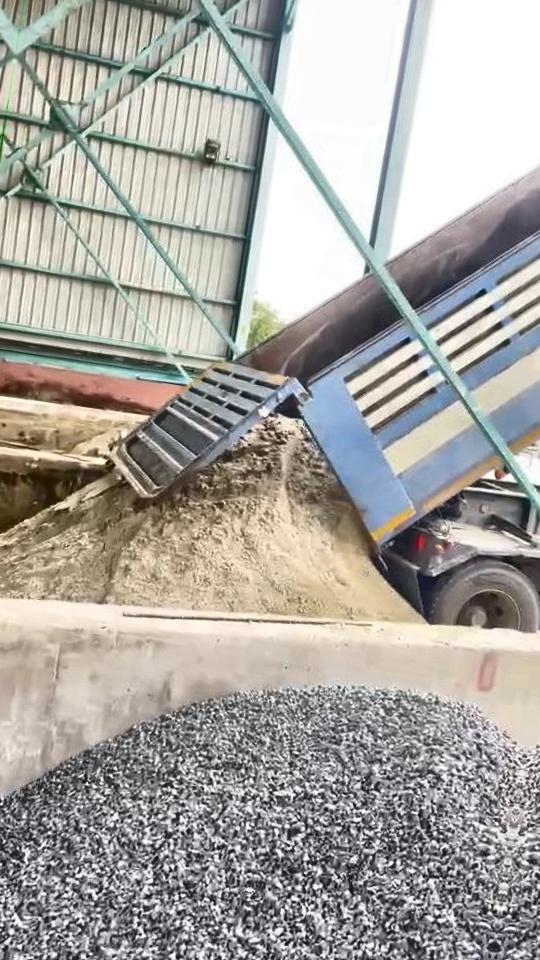gravel: (0, 686, 525, 960)
sand: (0, 417, 420, 621), (73, 423, 132, 457)
